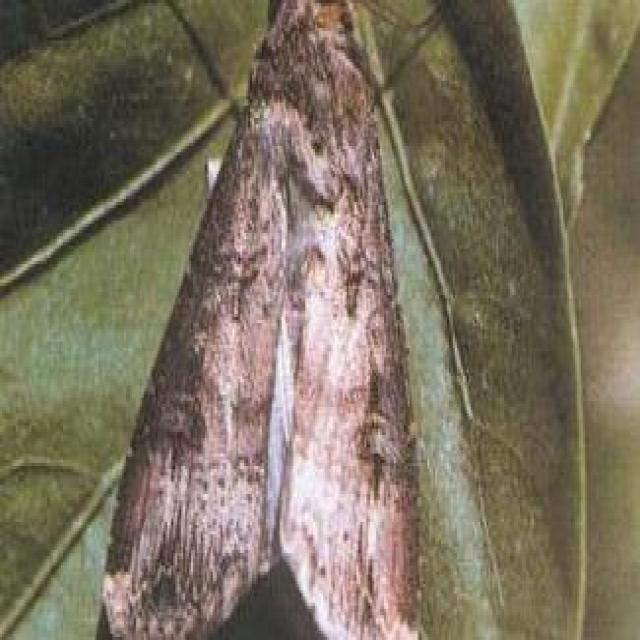black cutworm: (98, 3, 463, 633)
